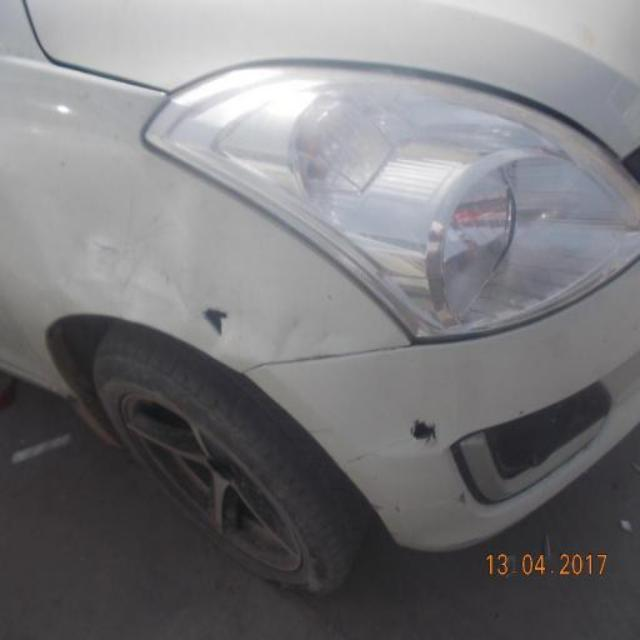crack: (407, 414, 442, 448), (203, 304, 232, 341)
